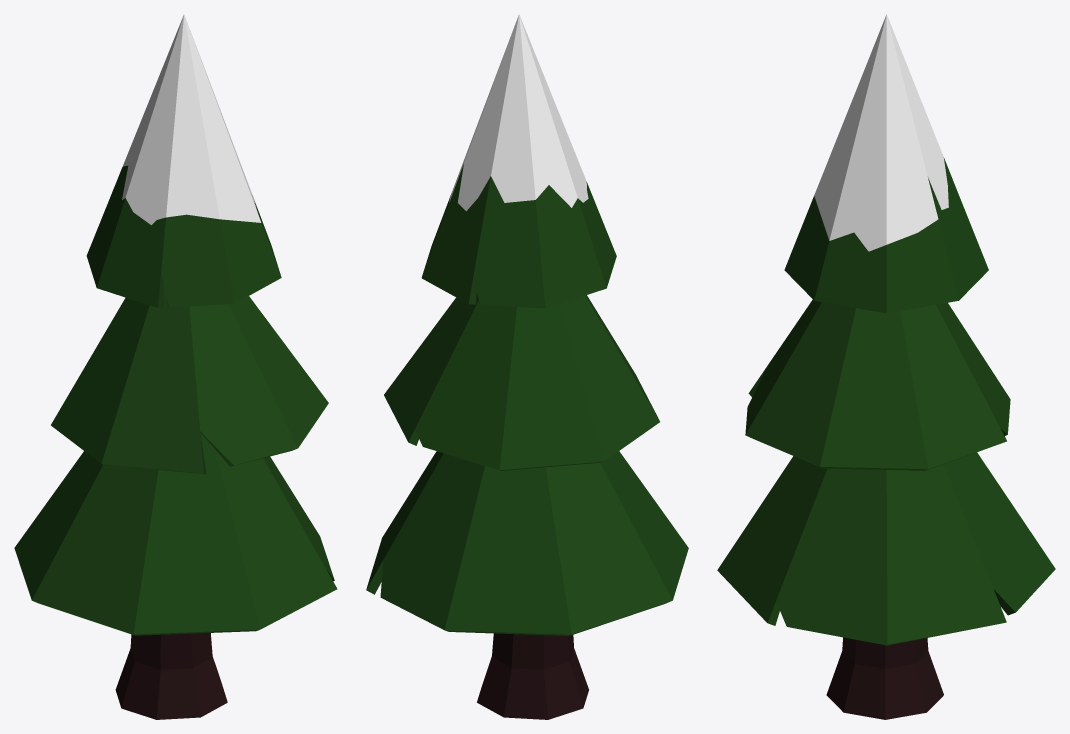
Rendered from pine1.obj.
The picture shows the model from 3 angles, left to right: view 1: azimuth 30°, elevation 25°; view 2: azimuth 150°, elevation 25°; view 3: azimuth 270°, elevation 25°; orthographic projection.
Parts seen in each view (by area): view 1: Cylinder.001, Cylinder; view 2: Cylinder.001, Cylinder; view 3: Cylinder.001, Cylinder.
Part boxes in pixels (left/top/right/bottom): Cylinder.001: left=14, top=14, right=337, bottom=635; Cylinder: left=115, top=633, right=227, bottom=719; Cylinder.001: left=366, top=14, right=688, bottom=635; Cylinder: left=477, top=633, right=588, bottom=719; Cylinder.001: left=717, top=14, right=1055, bottom=645; Cylinder: left=826, top=637, right=943, bottom=719.
Bounding box in the file's own units: 7.46 × 16.71 × 7.46.
